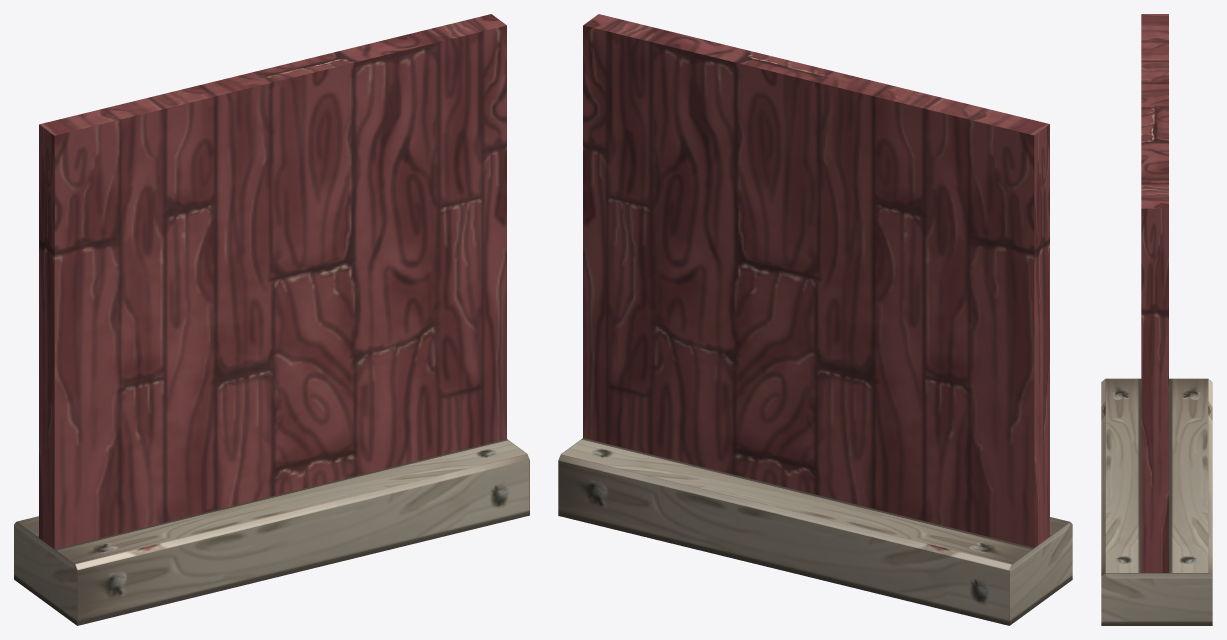
The model's file is barn_wallDivider.fbx.
3 renders of one model, left to right at view 1: azimuth 30°, elevation 25°; view 2: azimuth 150°, elevation 25°; view 3: azimuth 270°, elevation 25°, orthographic. The views are drawn at different scales.
Parts seen in each view (by area): view 1: barn_wall_divider; view 2: barn_wall_divider; view 3: barn_wall_divider.
Boxes of the visible parts, bbox=[...] form: barn_wall_divider: bbox=[14, 14, 529, 625]; barn_wall_divider: bbox=[558, 14, 1072, 625]; barn_wall_divider: bbox=[1101, 14, 1212, 625].
Size of the model in its own units: 5 by 5 by 1.21.
